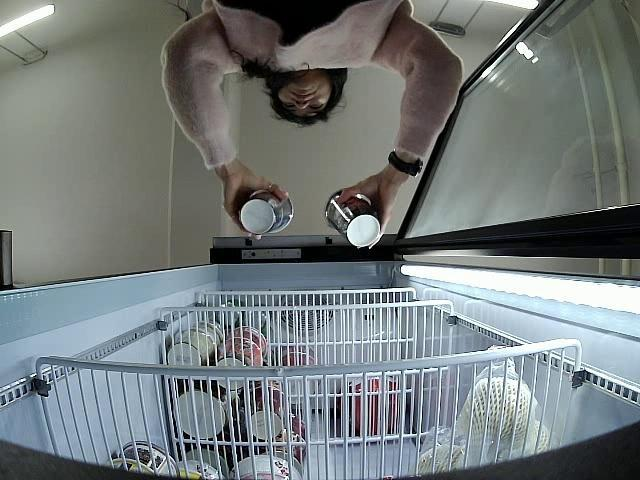08_buldak_S: (324, 190, 382, 249), (236, 190, 294, 234)
